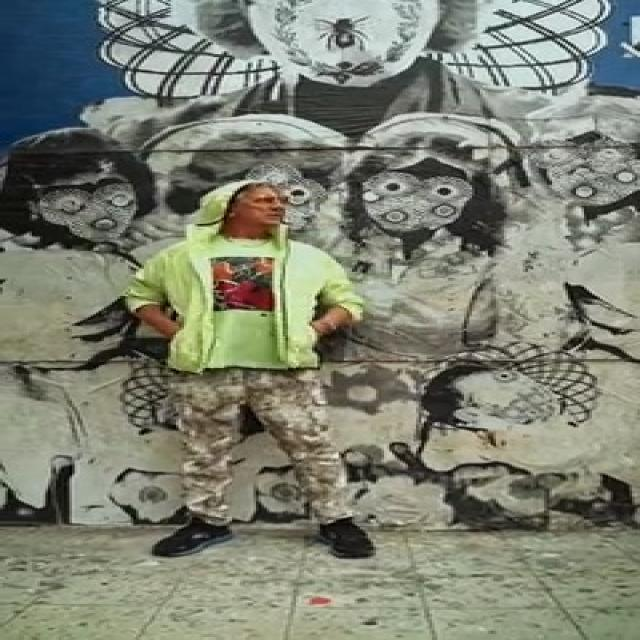Jacket_Wearer: (131, 237, 360, 358)
Person: (112, 178, 374, 543)
